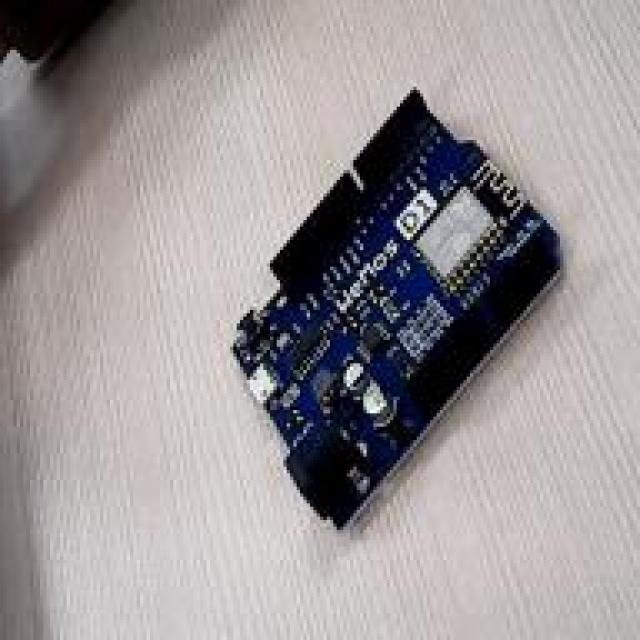Wemos: (234, 91, 558, 524)
